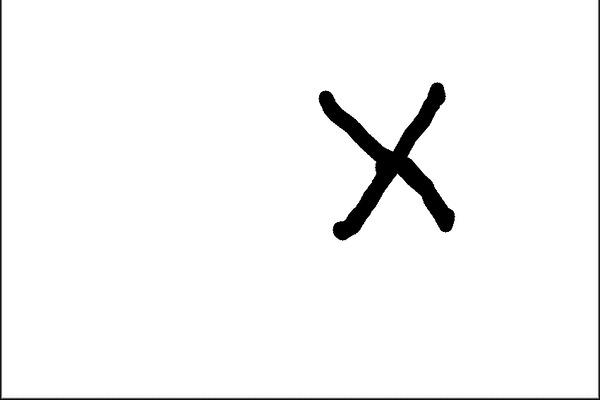X: (301, 64, 462, 250)
